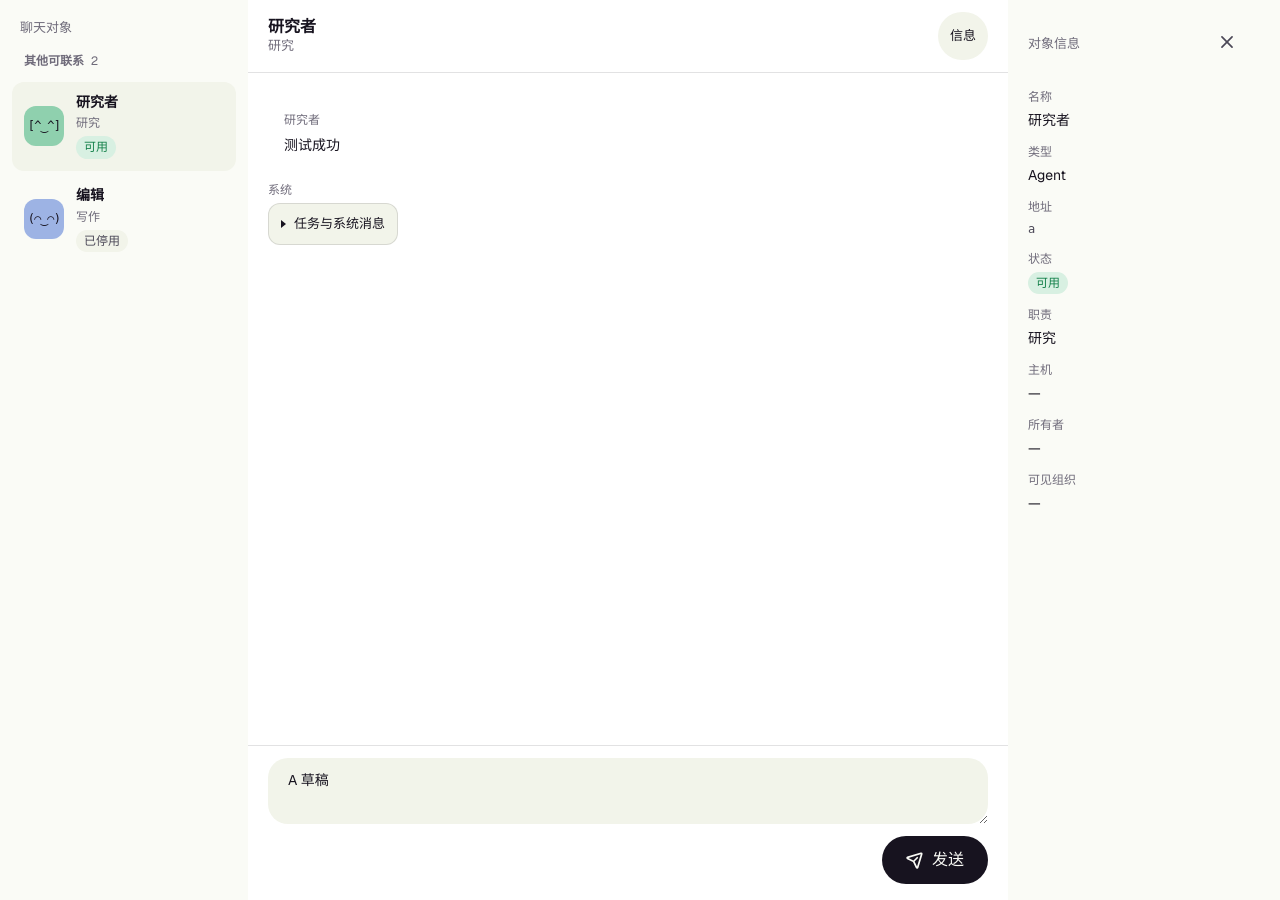
folds daemon system messages while leaving the conversation visible
Expected: the text "测试成功" is shown, x1=284 y1=136 x2=340 y2=154
Click the heading "任务与系统消息" at (340, 224), box x1=294 y1=215 x2=385 y2=232
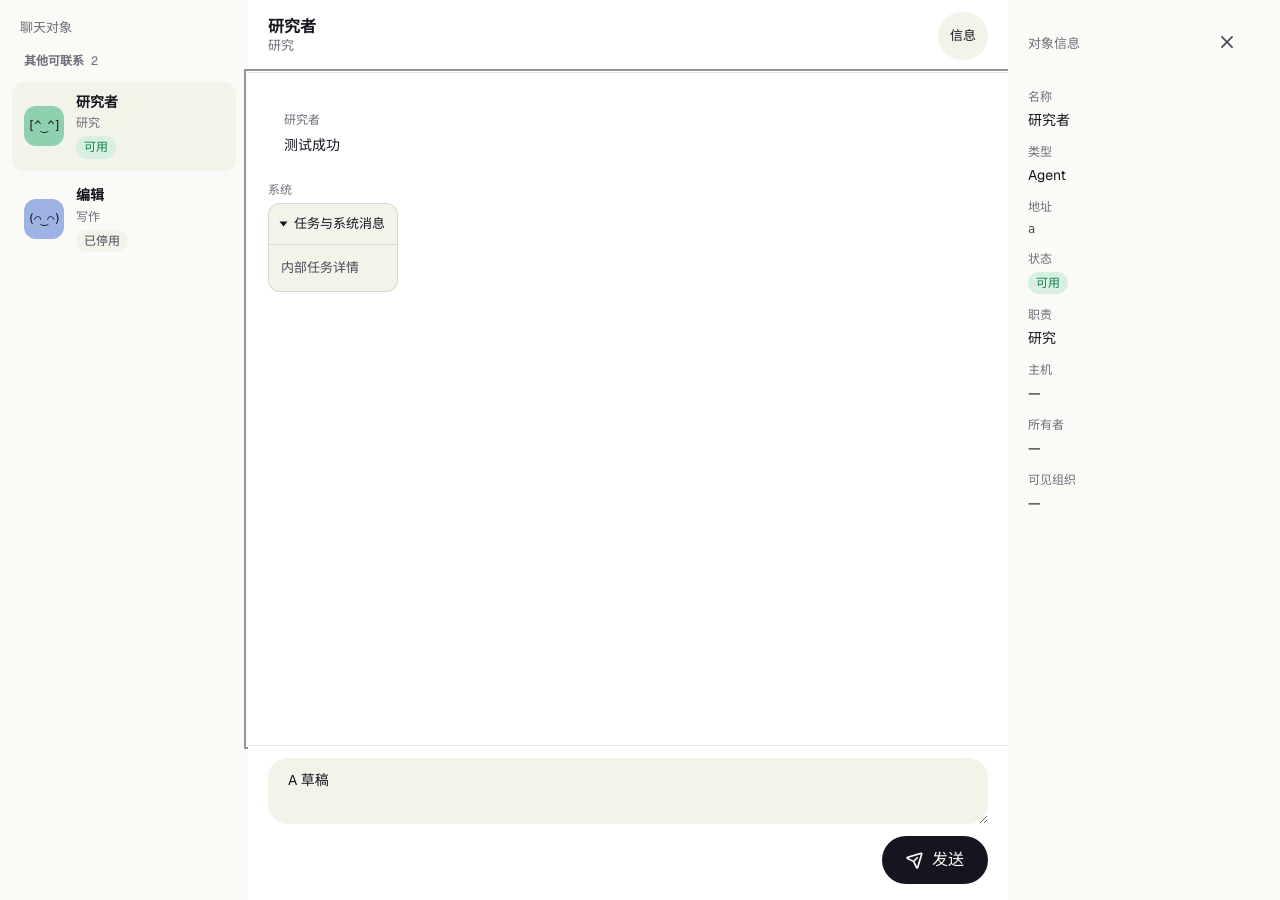
Now the text "内部任务详情" is shown, box x1=281 y1=259 x2=359 y2=276
